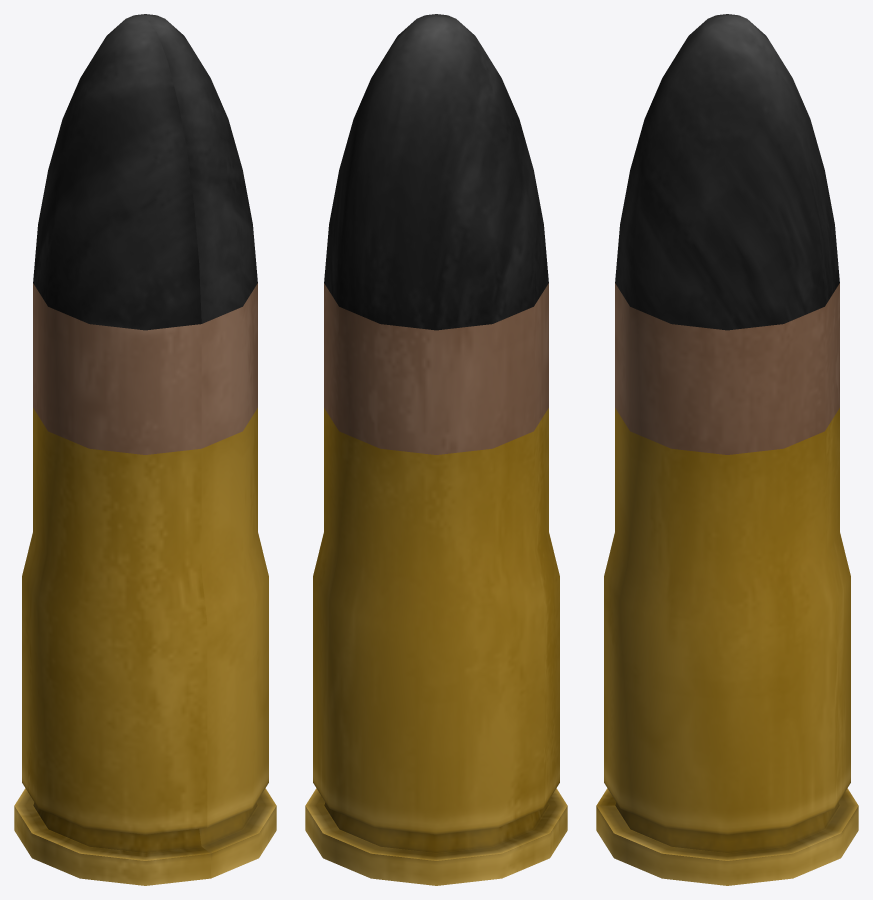
Rendered from MediumTank_Gear_Shell_02.FBX.
3 views of the same model, side by side, from view 1: azimuth 30°, elevation 25°; view 2: azimuth 150°, elevation 25°; view 3: azimuth 270°, elevation 25° (orthographic).
Parts seen in each view (by area): view 1: MediumTank_Gear_Shell_02; view 2: MediumTank_Gear_Shell_02; view 3: MediumTank_Gear_Shell_02.
Boxes of the visible parts, x1,y1,x2,y2 form: MediumTank_Gear_Shell_02: (14, 14, 276, 885); MediumTank_Gear_Shell_02: (305, 14, 567, 885); MediumTank_Gear_Shell_02: (596, 14, 858, 885).
Size of the model in its own units: 0.1911 by 0.6538 by 0.1911.
